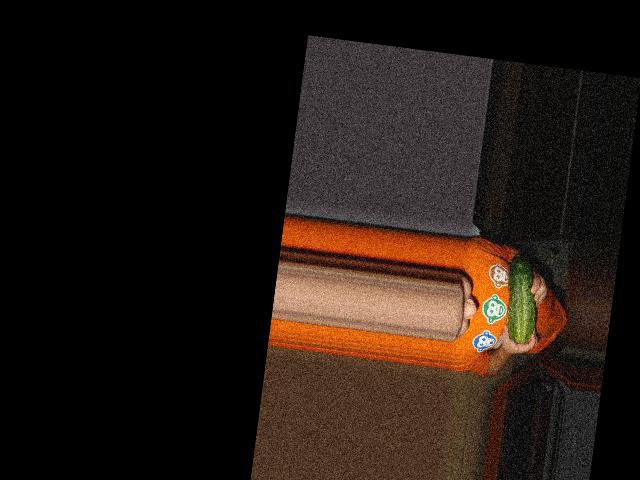cucumber: (499, 254, 543, 346)
